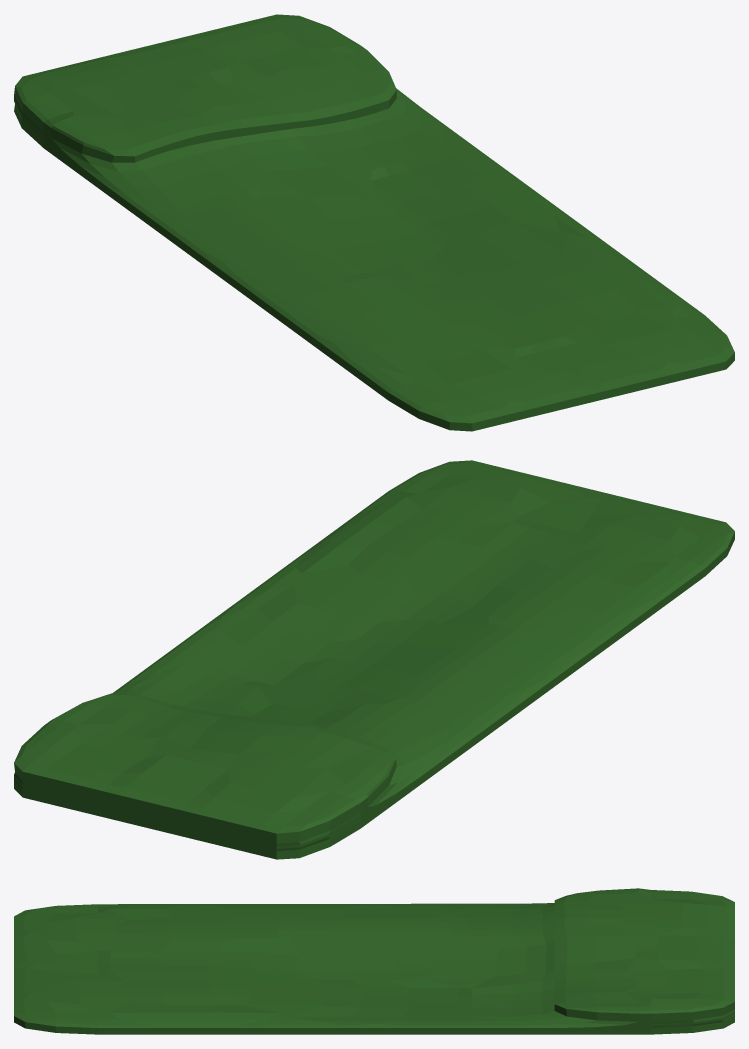
Rendered from sleepingbagout.fbx.
3 views of the same model, one above another, from view 1: azimuth 30°, elevation 25°; view 2: azimuth 150°, elevation 25°; view 3: azimuth 270°, elevation 25° (orthographic). The views are drawn at different scales.
Visible parts, largest first — view 1: Cube; view 2: Cube; view 3: Cube.
Boxes of the visible parts, x1,y1,x2,y2 form: Cube: (14, 14, 734, 431); Cube: (14, 460, 734, 859); Cube: (14, 888, 734, 1034).
Bounding box in the file's own units: 81.32 × 9.74 × 200.
